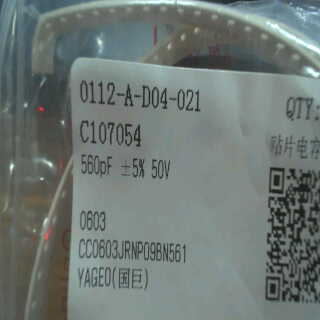560pF: (75, 151, 113, 180)
